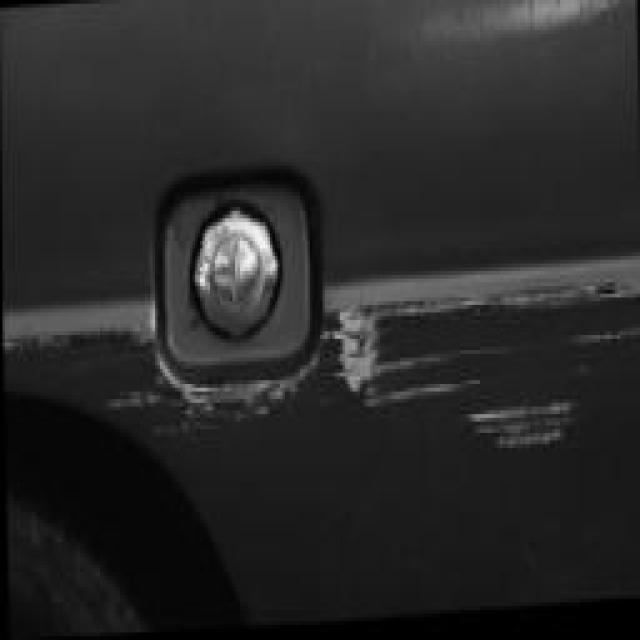Fender: (8, 226, 640, 542)
